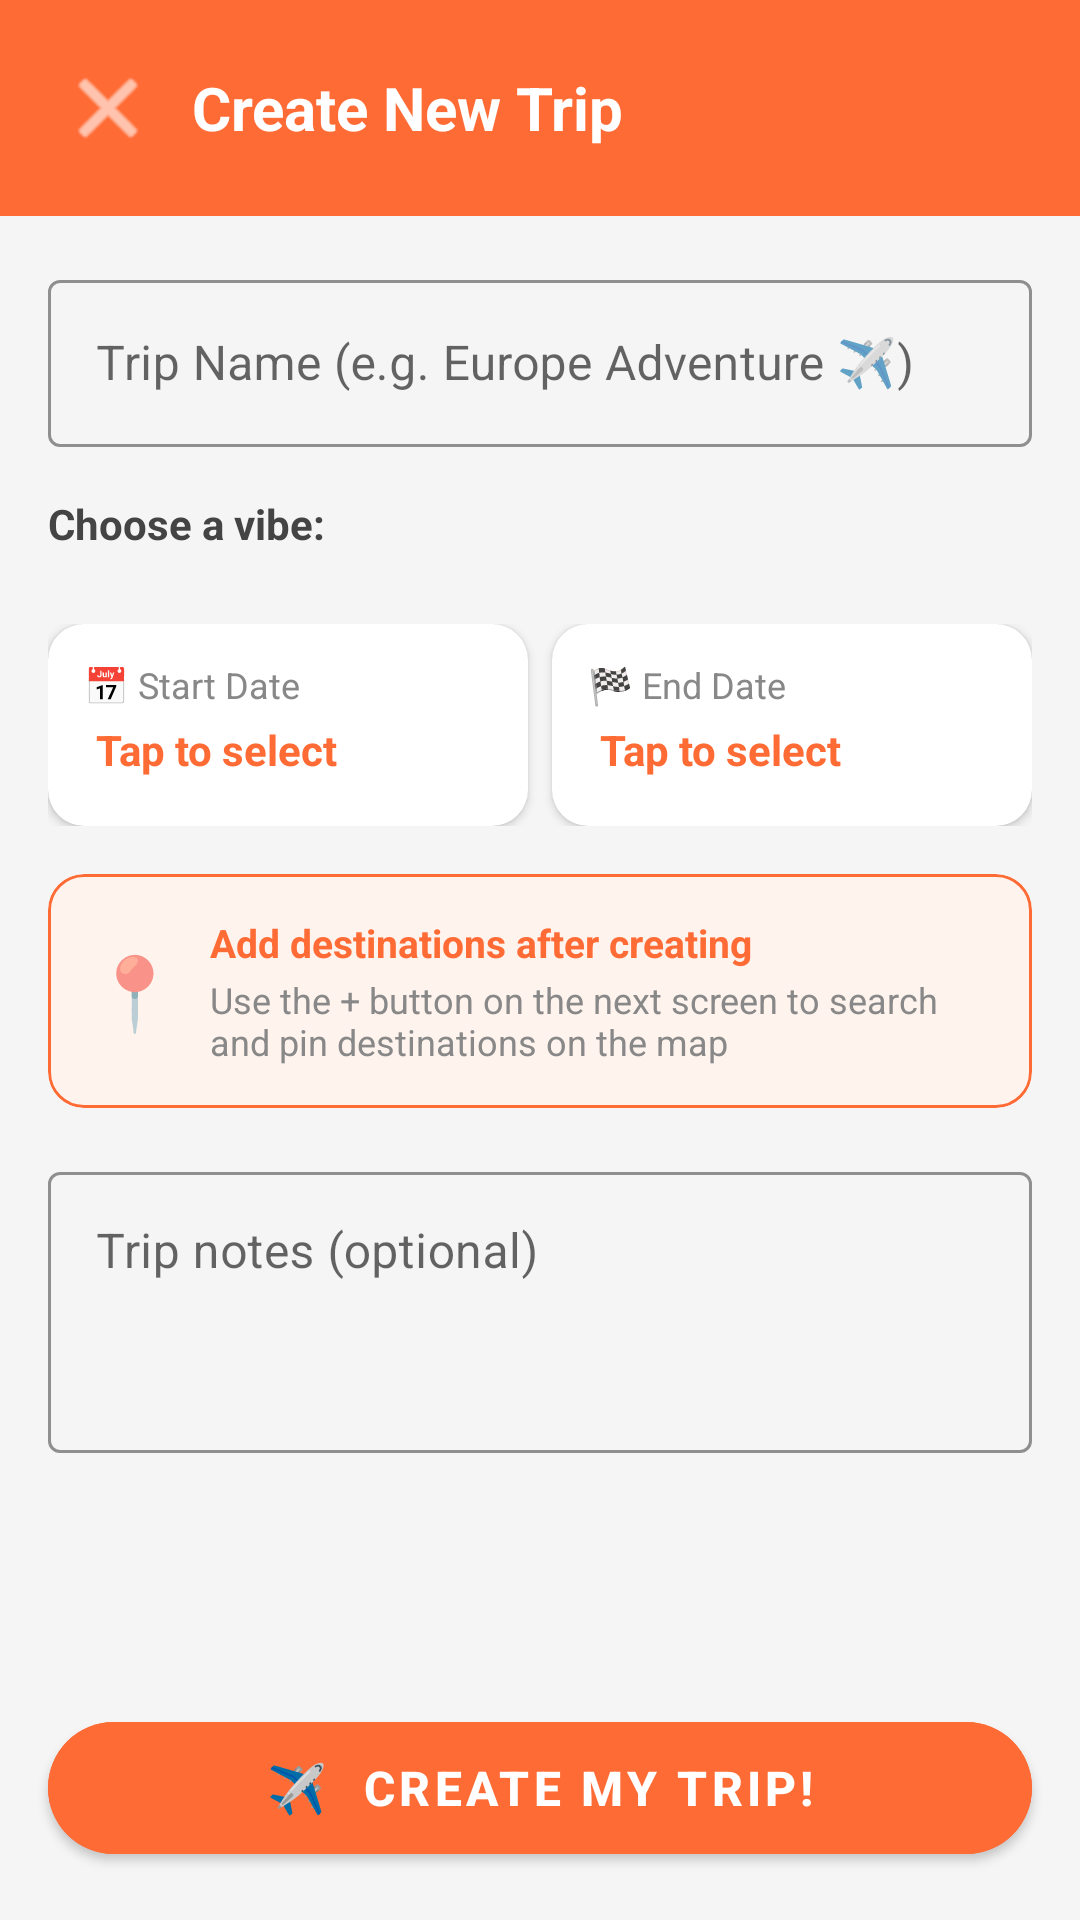

Icons on this 1080 x 1920 Android screen, each with the point to tap as (x=x, y=y):
Go back: (x=108, y=108)
